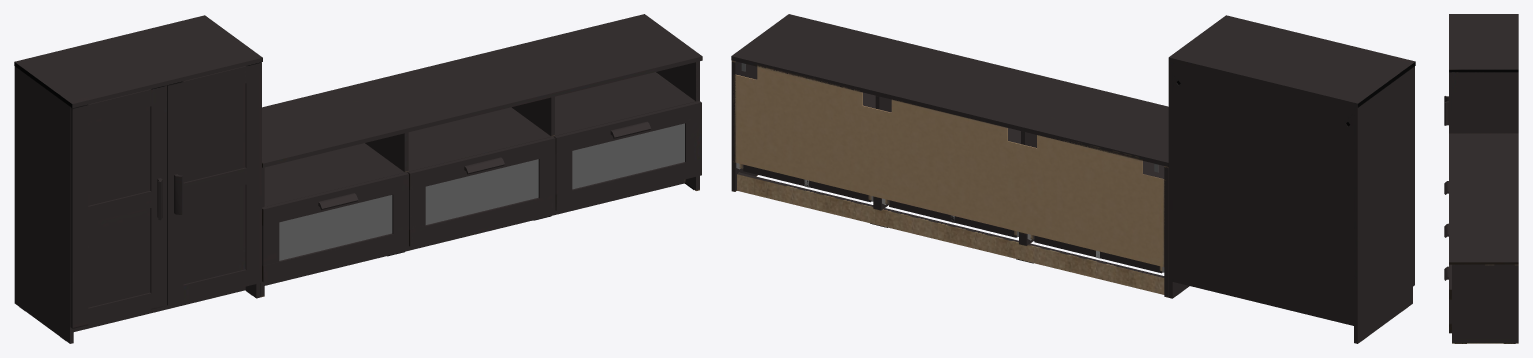
Rendered from 02 - BRIMNES TV storage combination - black 258x41x95 cm.glb.
3 views of the same model, side by side, from view 1: azimuth 30°, elevation 25°; view 2: azimuth 150°, elevation 25°; view 3: azimuth 270°, elevation 25° (orthographic). The views are drawn at different scales.
Parts seen in each view (by area): view 1: Mesh_0; view 2: Mesh_0; view 3: Mesh_0.
Part boxes in pixels (left/top/right/bottom): Mesh_0: left=14, top=14, right=702, bottom=343; Mesh_0: left=731, top=14, right=1415, bottom=343; Mesh_0: left=1444, top=14, right=1518, bottom=343.
Bounding box in the file's own units: 2.58 × 0.9493 × 0.438.
Materials: 1 (1 with a texture image).
